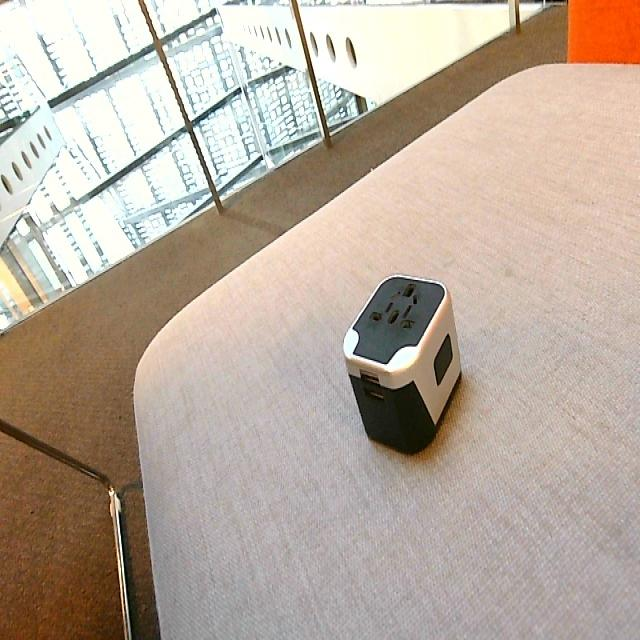adapter: (342, 272, 462, 455)
